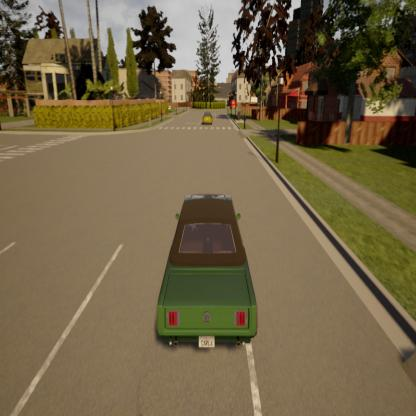Cars: (157, 197, 258, 350), (202, 108, 214, 127), (232, 98, 236, 108)
